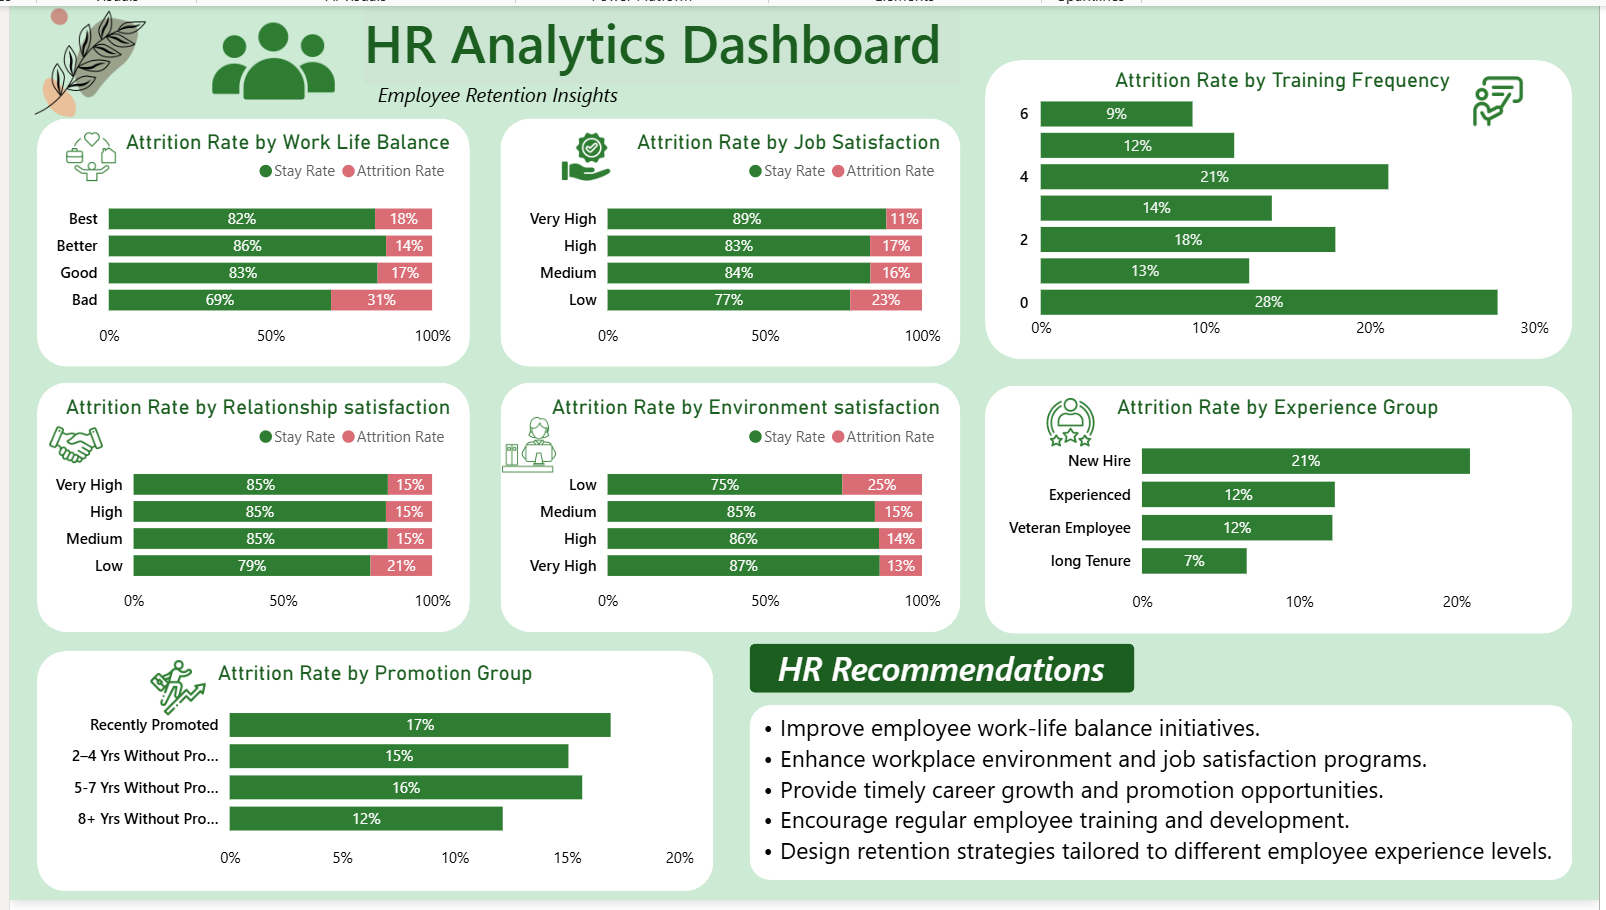

The dashboard page shown, as its layout file describes it:
{"tool":"powerbi","page":{"name":"Page 3","canvas":[1280,720],"ordinal":1},"visuals":[{"type":"shape","box":[21.8,91,348.7,200],"z":0},{"type":"shape","box":[21.8,519.2,544.9,193.6],"z":1000},{"type":"shape","box":[785.9,43.6,473.1,241],"z":2000},{"type":"shape","box":[21.8,303.8,348.7,201.3],"z":3000},{"type":"shape","box":[785.9,305.1,473.1,200],"z":4000},{"type":"shape","box":[596.2,562.8,662.8,141],"z":5000},{"type":"shape","box":[394.9,303.8,370.5,201.3],"z":6000},{"type":"shape","box":[394.9,91,370.5,200],"z":7000},{"type":"hundredPercentStackedBarChart","title":"Attrition Rate by Work Life Balance","fields":{"Y":["hr_data.Stay Rate","hr_data.Attrition Rate"],"Category":["hr_data.work_life_balance_level"]},"box":[30.8,98.7,329.5,184.6],"z":8000},{"type":"hundredPercentStackedBarChart","title":"Attrition Rate by Environment satisfaction","fields":{"Y":["hr_data.Stay Rate","hr_data.Attrition Rate"],"Category":["hr_data.environment_satisfaction_level"]},"box":[411.5,312.8,342.3,184.6],"z":9000},{"type":"hundredPercentStackedBarChart","title":"Attrition Rate by Job Satisfaction","fields":{"Y":["hr_data.Stay Rate","hr_data.Attrition Rate"],"Category":["hr_data.job_satisfaction_level"]},"box":[411.5,98.7,342.3,184.6],"z":10000},{"type":"hundredPercentStackedBarChart","title":"Attrition Rate by Relationship satisfaction","fields":{"Y":["hr_data.Stay Rate","hr_data.Attrition Rate"],"Category":["hr_data.relationship_satisfaction_level"]},"box":[30.8,312.8,329.5,184.6],"z":11000},{"type":"clusteredBarChart","fields":{"Category":["hr_data.Promotion Group"],"Y":["hr_data.Attrition Rate"]},"box":[32.1,526.9,523.1,176.9],"z":12000},{"type":"clusteredBarChart","title":"Attrition Rate by Experience Group","fields":{"Category":["hr_data.experience_group"],"Y":["hr_data.Attrition Rate"]},"box":[797.4,312.8,447.4,184.6],"z":13000},{"type":"barChart","title":"Attrition Rate by Training Frequency","fields":{"Y":["hr_data.Attrition Rate"],"Category":["hr_data.trainingtimeslastyear"]},"box":[806.4,50,438.5,228.2],"z":14000},{"type":"shape","box":[596.2,514.1,310.3,39.7],"z":15000},{"type":"shape","box":[284.6,0,480.8,62.8],"z":16000},{"type":"textbox","box":[291,53.8,207.7,37.2],"z":17000},{"type":"image","box":[157.7,12.8,107.7,98.7],"z":18000},{"type":"textbox","box":[587.2,562.8,671.8,150],"z":19000},{"type":"textbox","box":[597.4,510.3,306.4,48.7],"z":20000},{"type":"image","box":[0,0,129.5,91],"z":21000}]}

Visuals, with their boxes in screenshot pixels (x1, y1, x2, y2), scaled from the page's 1280x720 canvas onto the 1606x910 screenshot:
shape: Rect(27, 115, 465, 368)
shape: Rect(27, 656, 711, 901)
shape: Rect(986, 55, 1580, 360)
shape: Rect(27, 384, 465, 638)
shape: Rect(986, 386, 1580, 638)
shape: Rect(748, 711, 1580, 890)
shape: Rect(495, 384, 960, 638)
shape: Rect(495, 115, 960, 368)
"Attrition Rate by Work Life Balance" hundredPercentStackedBarChart: Rect(39, 125, 452, 358)
"Attrition Rate by Environment satisfaction" hundredPercentStackedBarChart: Rect(516, 395, 946, 629)
"Attrition Rate by Job Satisfaction" hundredPercentStackedBarChart: Rect(516, 125, 946, 358)
"Attrition Rate by Relationship satisfaction" hundredPercentStackedBarChart: Rect(39, 395, 452, 629)
clusteredBarChart - hr_data.Promotion Group x hr_data.Attrition Rate: Rect(40, 666, 697, 890)
"Attrition Rate by Experience Group" clusteredBarChart: Rect(1000, 395, 1562, 629)
"Attrition Rate by Training Frequency" barChart: Rect(1012, 63, 1562, 352)
shape: Rect(748, 650, 1137, 700)
shape: Rect(357, 0, 960, 79)
textbox: Rect(365, 68, 626, 115)
image: Rect(198, 16, 333, 141)
textbox: Rect(737, 711, 1580, 901)
textbox: Rect(750, 645, 1134, 707)
image: Rect(0, 0, 162, 115)
